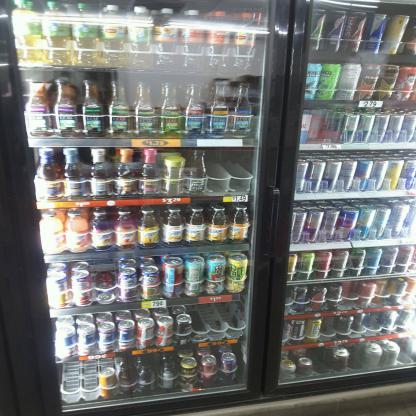Void: (192, 307, 237, 338), (210, 154, 244, 190), (90, 264, 115, 303)
